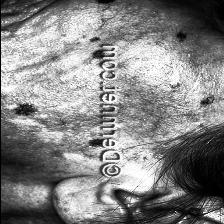Unclassified: (3, 92, 37, 118), (167, 23, 192, 47), (82, 28, 98, 62), (194, 92, 218, 106), (99, 0, 128, 5), (87, 135, 97, 149)
